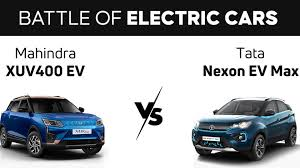XUV 400: (7, 94, 106, 158)
